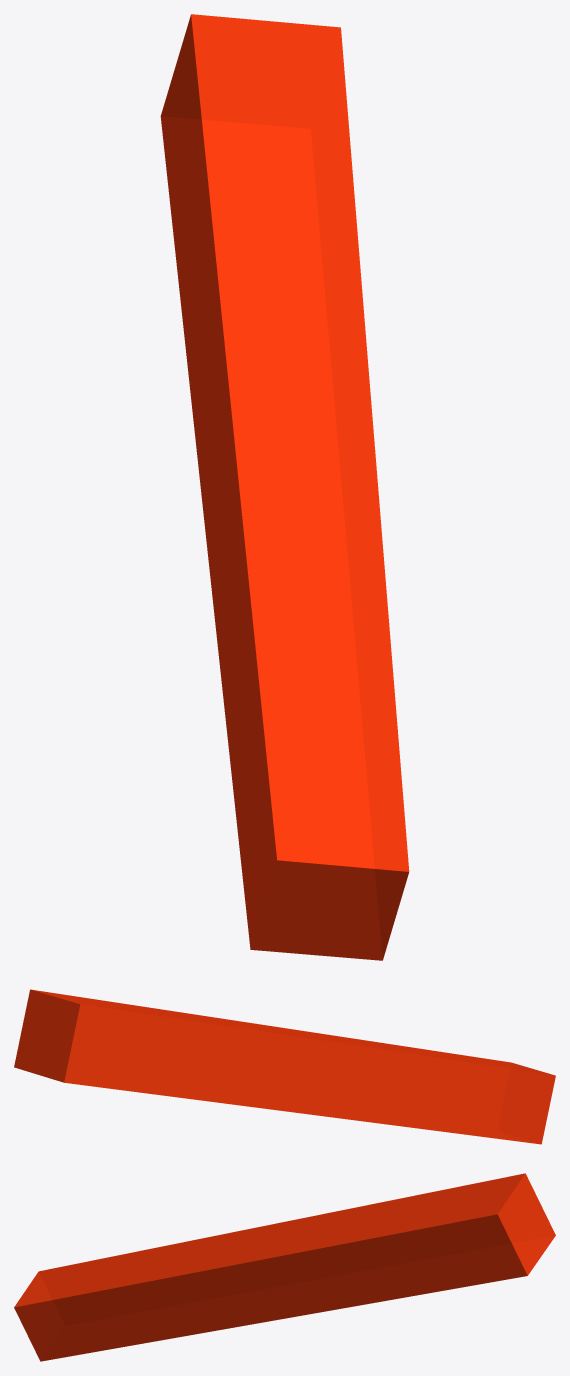
Rendered from Event_420094457_EBrechit_22.fbx.
The picture shows the model from 3 angles, top to bottom: view 1: azimuth 30°, elevation 25°; view 2: azimuth 150°, elevation 25°; view 3: azimuth 270°, elevation 25°; orthographic projection. The views are drawn at different scales.
Parts seen in each view (by area): view 1: Model; view 2: Model; view 3: Model.
Boxes of the visible parts, x1,y1,x2,y2 form: Model: [160, 14, 409, 960]; Model: [14, 989, 555, 1144]; Model: [14, 1173, 555, 1361].
Size of the model in its own units: 0.2555 by 0.2428 by 0.4589.
